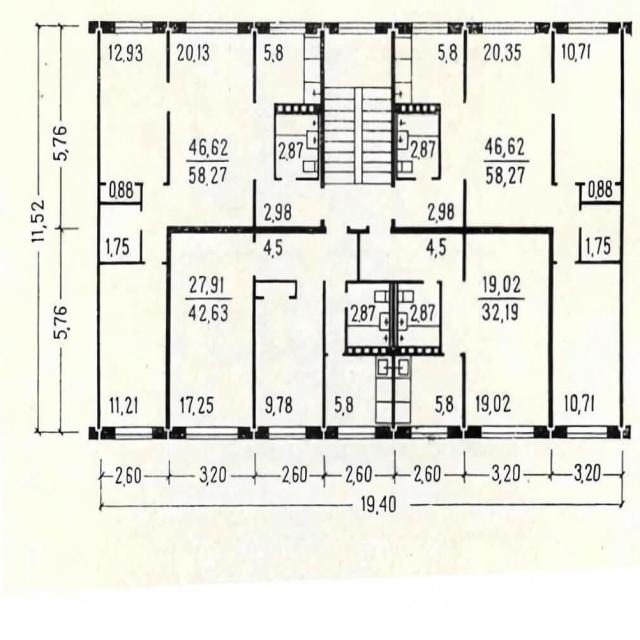Bathrooms: (396, 358, 462, 424), (397, 36, 462, 102), (257, 35, 320, 103), (327, 358, 391, 424), (278, 116, 318, 177), (398, 115, 437, 177), (350, 286, 389, 345), (400, 286, 438, 344)
Corridors: (360, 235, 461, 351), (257, 235, 356, 352), (397, 104, 463, 226), (256, 104, 319, 226), (325, 188, 390, 226), (142, 187, 171, 261), (550, 186, 579, 260), (583, 206, 620, 260), (102, 207, 139, 260), (102, 186, 140, 200), (583, 188, 619, 200), (256, 285, 294, 294)
Doors: (252, 104, 256, 180), (463, 104, 467, 178), (462, 282, 465, 350), (370, 226, 391, 235), (165, 82, 171, 110), (391, 187, 396, 220), (326, 226, 346, 234), (320, 188, 325, 220), (551, 83, 556, 113), (265, 296, 289, 302), (586, 182, 614, 187), (106, 181, 134, 186), (252, 243, 256, 275), (143, 181, 164, 187), (559, 180, 575, 187), (145, 260, 161, 266), (558, 261, 575, 266), (445, 351, 459, 357), (424, 279, 437, 285), (327, 353, 342, 358), (415, 177, 432, 181), (281, 177, 296, 181), (344, 293, 348, 307), (139, 213, 142, 230), (579, 210, 582, 226)
LBwalls: (375, 425, 413, 439), (153, 425, 187, 440), (376, 21, 412, 35), (154, 20, 186, 35), (534, 21, 568, 35), (448, 425, 482, 439), (534, 425, 567, 439), (304, 21, 339, 34), (239, 426, 269, 441), (448, 22, 482, 35), (238, 20, 269, 34), (306, 426, 337, 440), (88, 426, 114, 441), (609, 424, 632, 439), (89, 21, 115, 34), (609, 22, 632, 35)
Offices: (469, 36, 551, 226), (172, 35, 252, 226), (172, 235, 252, 426), (468, 236, 548, 423), (101, 265, 165, 426), (554, 266, 617, 424), (257, 279, 322, 425), (101, 35, 165, 181), (556, 36, 620, 181)
Stairs: (325, 35, 392, 187)
Walls: (161, 179, 328, 431), (389, 178, 558, 427), (341, 223, 446, 427), (574, 29, 624, 427), (97, 35, 146, 429), (273, 30, 324, 191), (391, 30, 442, 187), (253, 274, 298, 429), (323, 278, 329, 428), (161, 110, 171, 187), (459, 351, 466, 426), (551, 113, 558, 186), (252, 33, 256, 104), (464, 30, 467, 104), (551, 31, 555, 83), (166, 35, 170, 83)
Windows: (185, 426, 239, 441), (483, 425, 534, 439), (186, 21, 239, 34), (483, 21, 535, 34), (337, 425, 376, 440), (568, 21, 608, 35), (566, 426, 608, 439), (268, 427, 307, 441), (114, 427, 153, 440), (269, 21, 305, 35), (413, 22, 449, 36), (116, 21, 153, 34), (412, 426, 448, 439), (340, 21, 375, 34)
